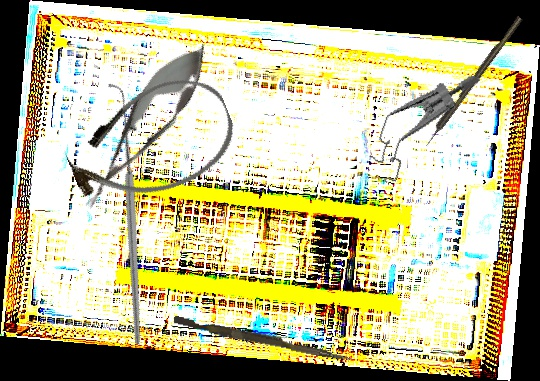Cannula: (54, 64, 247, 221)
Hook Surgical: (7, 80, 243, 349), (421, 15, 525, 148)
Micro Scissor: (67, 29, 223, 224)
Pusher: (172, 315, 354, 363)
Speculum: (361, 51, 483, 202)
